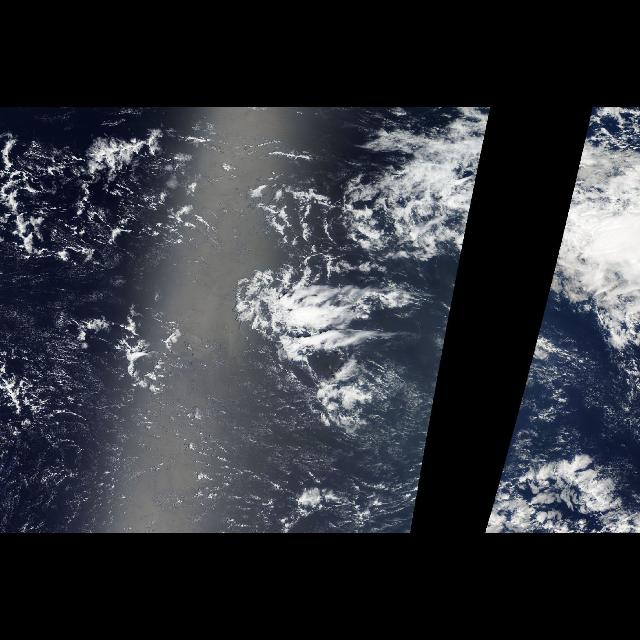Fish: (10, 114, 446, 386)
Sugar: (3, 359, 349, 529)
